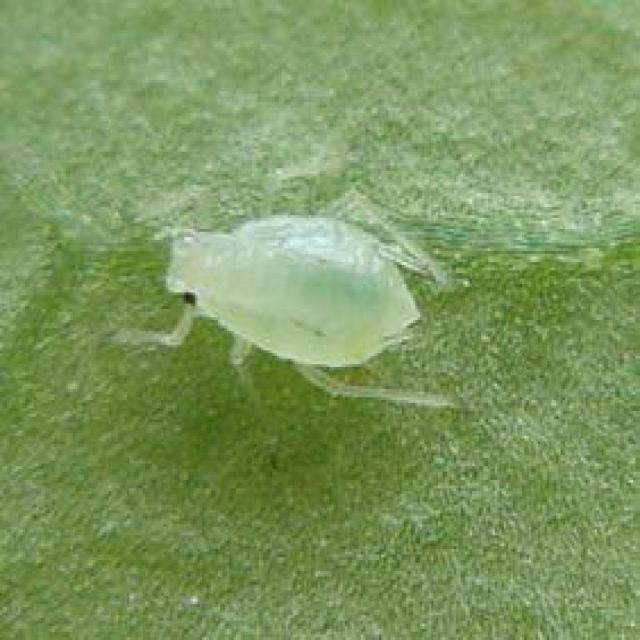Aphids: (99, 164, 489, 448)
